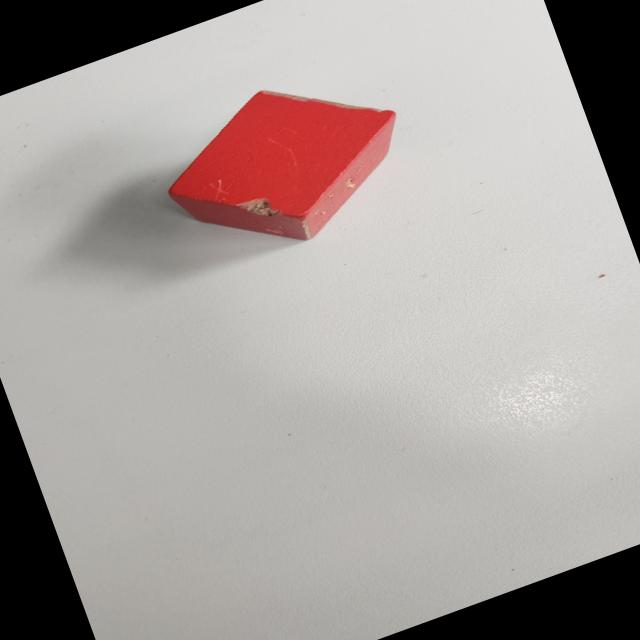broken: (146, 49, 428, 280)
